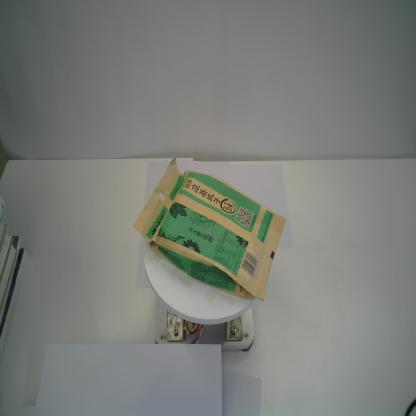Dried Food: (131, 157, 287, 304)
